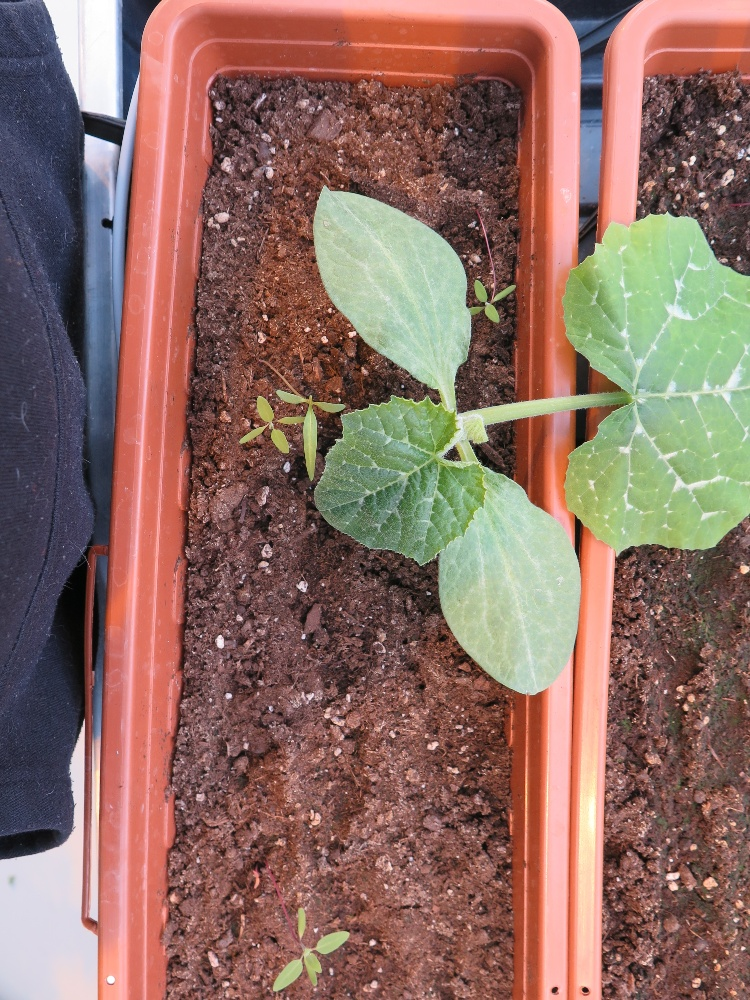crop: (293, 176, 750, 702)
weed: (271, 380, 351, 484), (271, 904, 351, 995), (235, 394, 305, 460), (462, 275, 522, 325)
